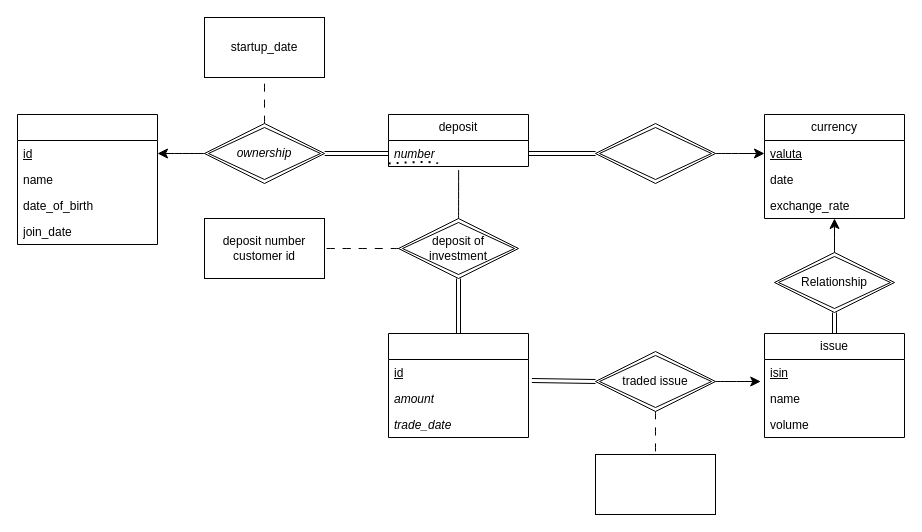
Image size: 922x532. Some labels were removed from this diagram. Here are the shapes that lost their labels. From the top down, the box of each, then its label:
(594, 122, 716, 184): deposit valuta
(16, 114, 158, 244): customer
(388, 332, 528, 438): investment
(594, 454, 716, 514): price pr issue
